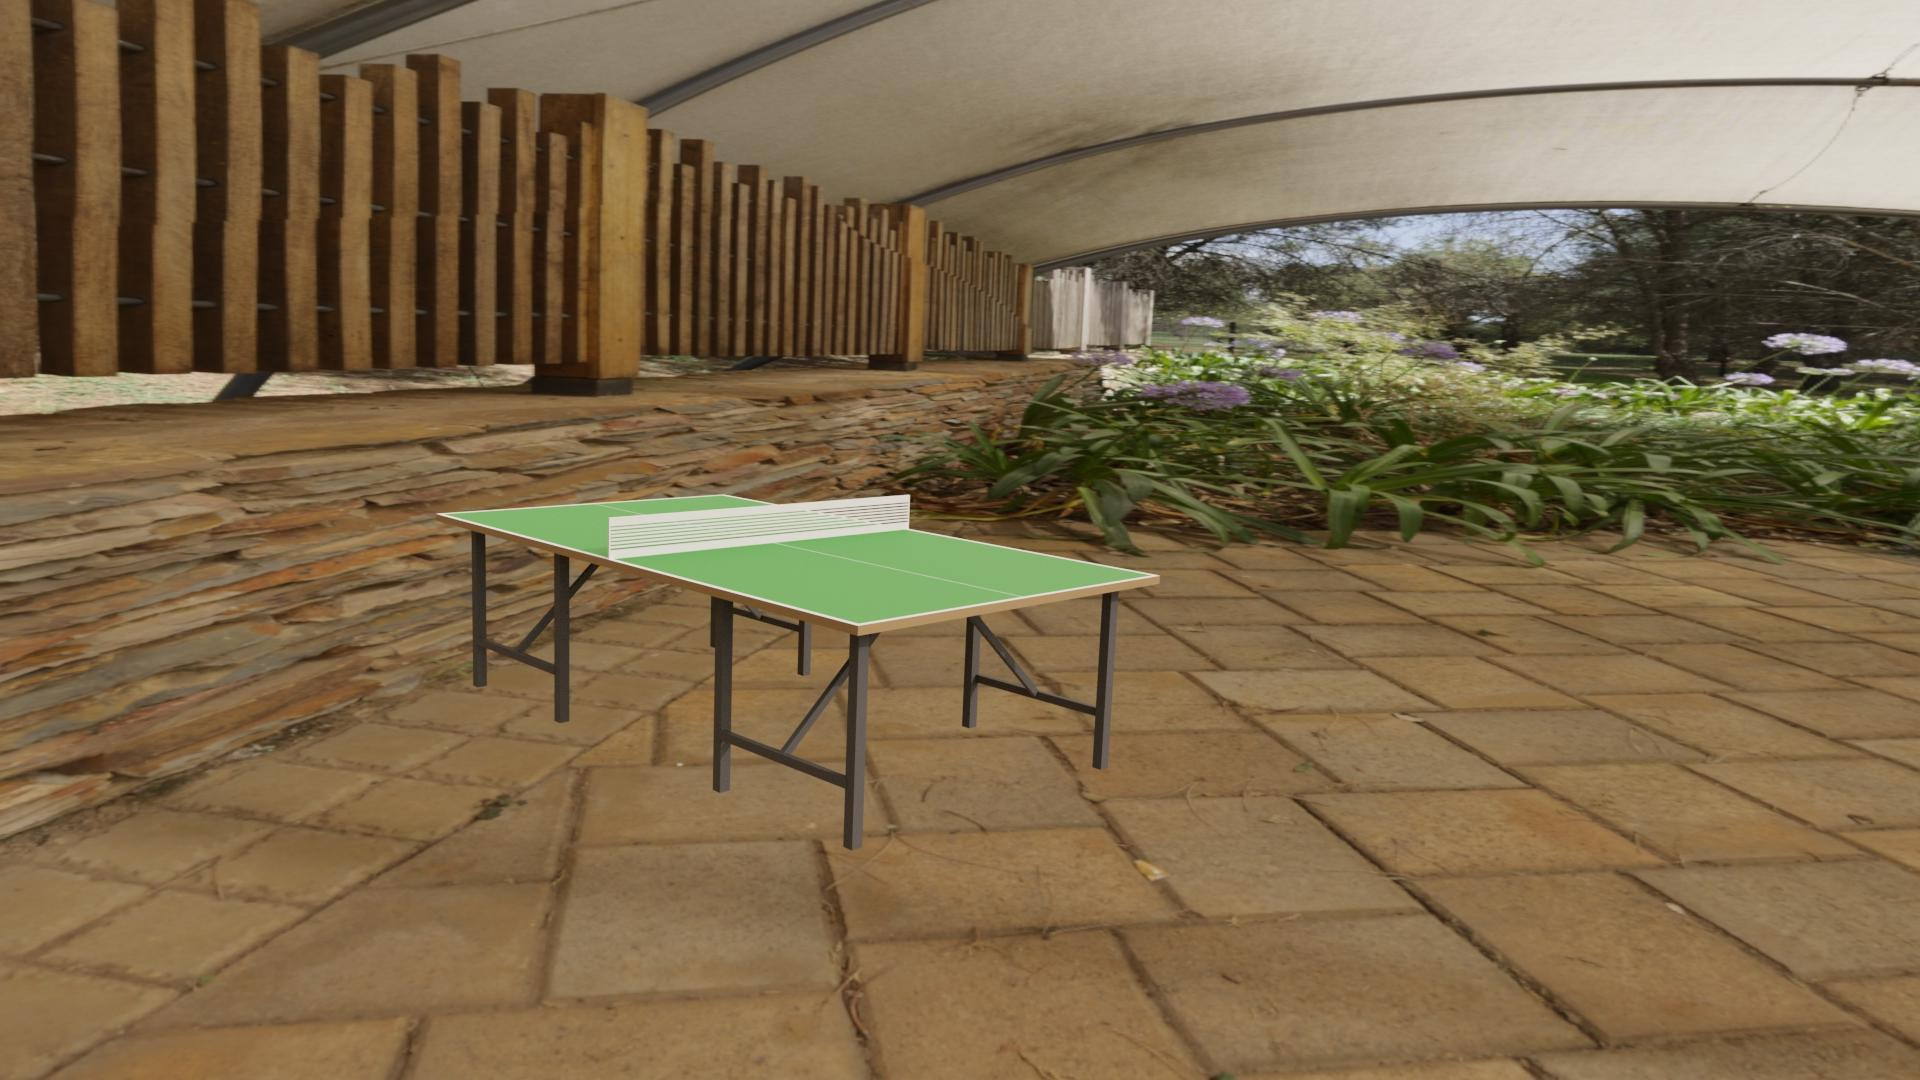table: (443, 496, 1153, 624)
